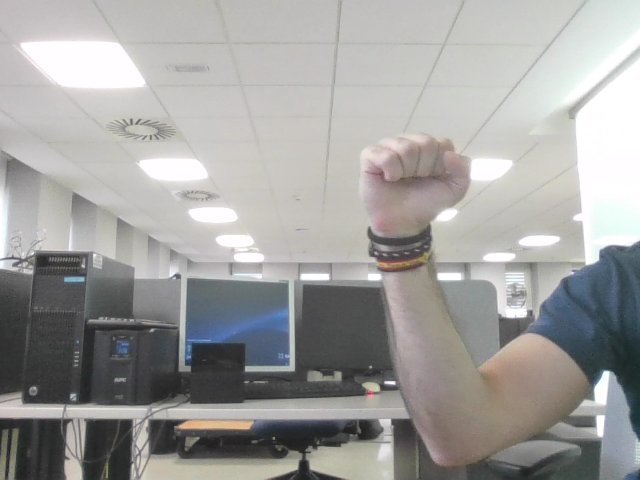Puño: (373, 143, 460, 209)
